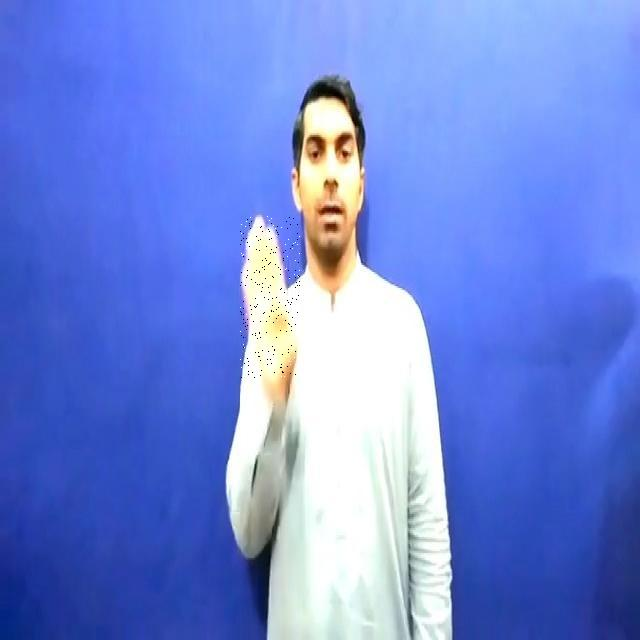napkin: (240, 216, 300, 378)
